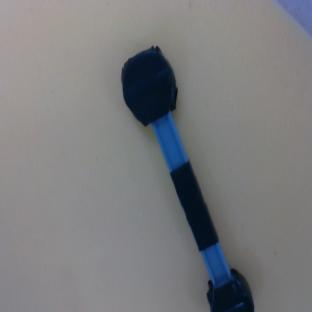part_3_bad: (111, 42, 257, 312)
